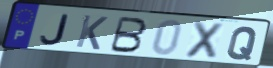0: (149, 19, 185, 57)
B: (107, 16, 149, 55)
J: (38, 13, 70, 47)
K: (74, 13, 110, 52)
Q: (225, 25, 260, 62)
X: (182, 20, 227, 62)
